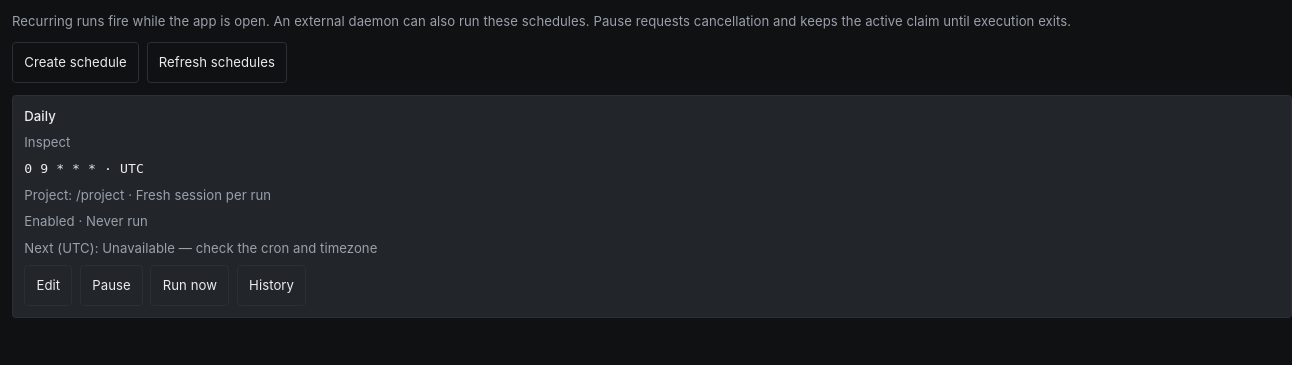
Test: SchedulesPane workflow › reports terminal run failures rather than saying started
Click the button with aria-label "Run Daily now": (190, 285) [150, 265, 229, 306]
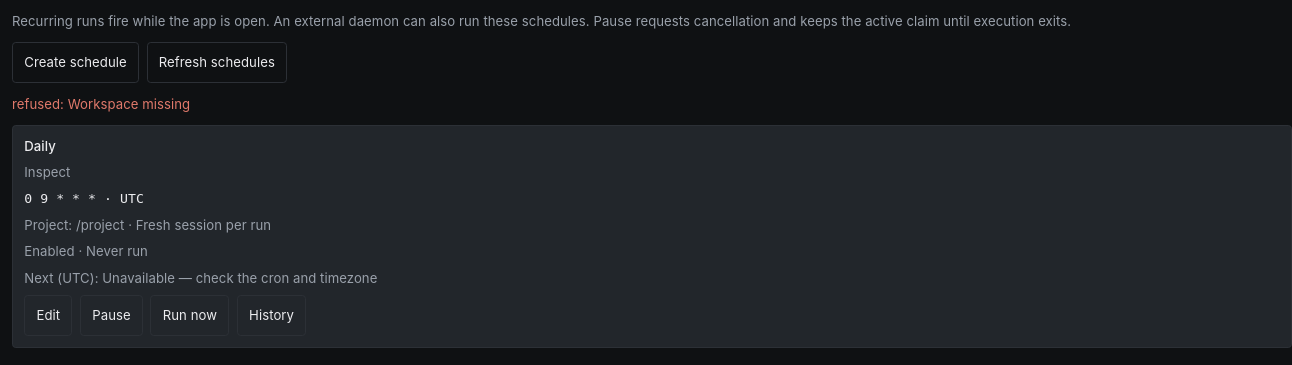
Check: the message shows "Workspace missing", box [12, 96, 190, 112]
